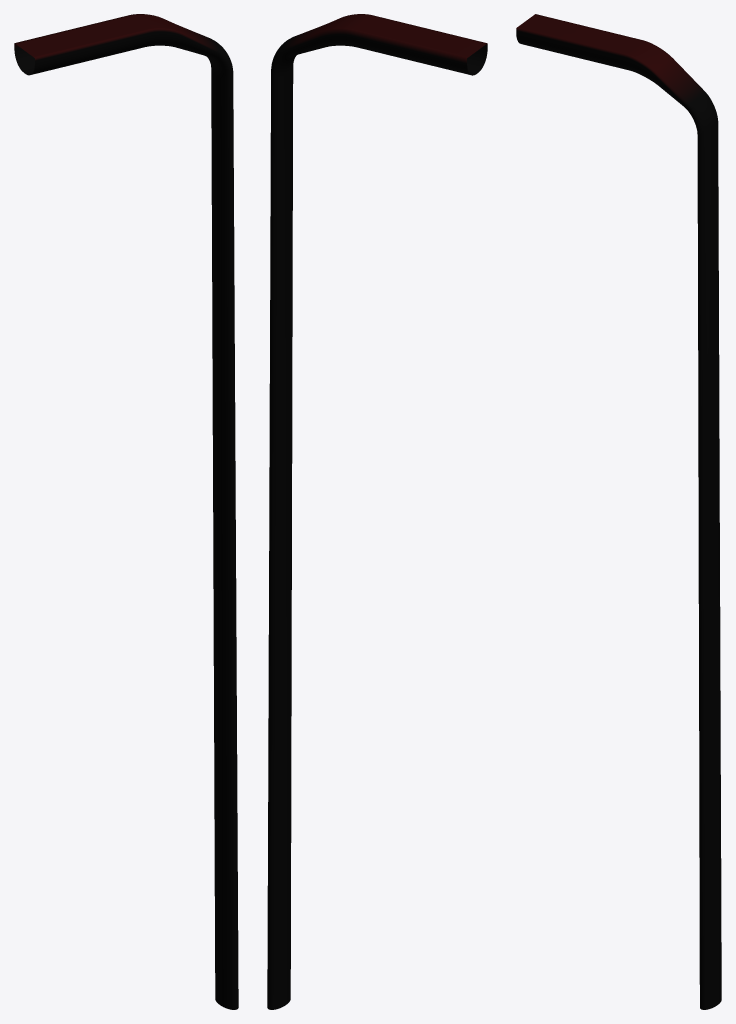
The model's file is gutter_straight_broken_water_01.fbx.
The picture shows the model from 3 angles, left to right: view 1: azimuth 30°, elevation 25°; view 2: azimuth 150°, elevation 25°; view 3: azimuth 330°, elevation 25°; orthographic projection. The views are drawn at different scales.
Parts seen in each view (by area): view 1: Circle.006; view 2: Circle.006; view 3: Circle.006.
Boxes of the visible parts, x1,y1,x2,y2 form: Circle.006: (14, 14, 238, 1009); Circle.006: (267, 14, 487, 1009); Circle.006: (516, 14, 721, 1009).
Size of the model in its own units: 3.13 by 14.41 by 0.5685.
